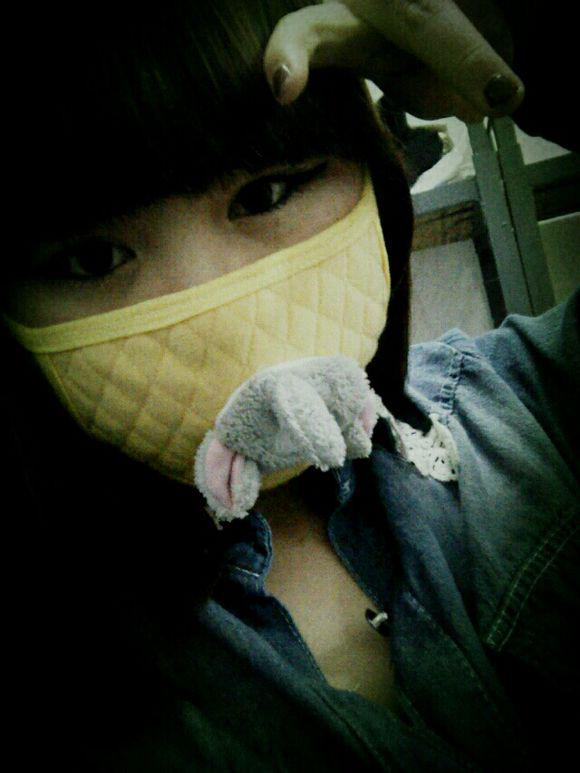OK: (31, 144, 389, 477)
